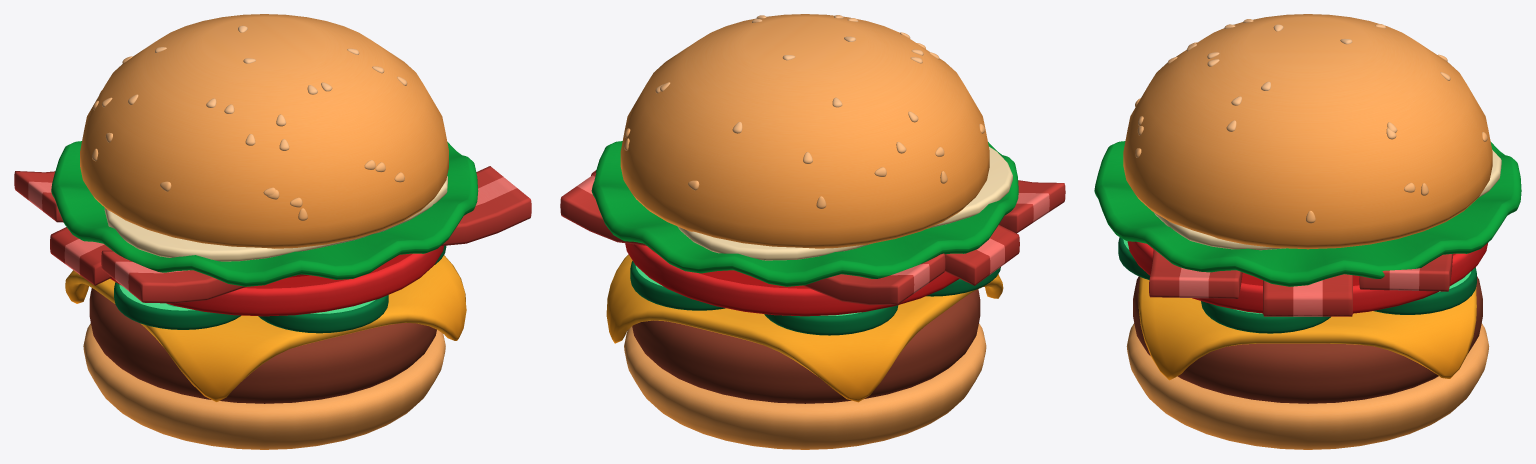
File: cheese-burger.glb
The picture shows the model from 3 angles, left to right: view 1: azimuth 30°, elevation 25°; view 2: azimuth 150°, elevation 25°; view 3: azimuth 270°, elevation 25°; orthographic projection.
Visible parts, largest first — view 1: top_bun_1, Bottom_bun, beef, Lettuce, Cheese, Bacon, tomato, cucumber, Egg, Seed; view 2: top_bun_1, Bottom_bun, beef, Lettuce, Cheese, Bacon, tomato, cucumber, Egg, Seed; view 3: top_bun_1, Lettuce, Bottom_bun, Cheese, beef, Bacon, cucumber, tomato, Seed, Egg.
Part boxes in pixels (x1,y1,x2,y2): top_bun_1: (80,14,448,248); Bottom_bun: (83,323,445,449); beef: (89,288,436,403); Lettuce: (51,141,478,286); Cheese: (65,255,466,401); Bacon: (14,166,531,303); tomato: (110,246,443,316); cucumber: (114,245,446,333); Egg: (104,176,447,261); Seed: (92,25,407,220); top_bun_1: (620,14,989,248); Bottom_bun: (624,323,986,449); beef: (632,289,980,403); Lettuce: (591,141,1018,286); Cheese: (606,254,1003,402); Bacon: (560,170,1065,305); tomato: (625,243,959,316); cucumber: (630,261,1000,335); Egg: (677,146,1012,260); Seed: (624,15,984,208); top_bun_1: (1123,14,1492,249); Lettuce: (1094,141,1521,286); Bottom_bun: (1126,323,1489,449); Cheese: (1138,267,1476,380); beef: (1133,276,1482,403); Bacon: (1149,249,1452,316); cucumber: (1118,237,1476,333); tomato: (1127,241,1487,313); Seed: (1135,19,1487,223); Egg: (1154,149,1501,250).
Bounding box in the file's own units: 0.2019 × 0.1731 × 0.194.
Materials: 1 (1 with a texture image).
